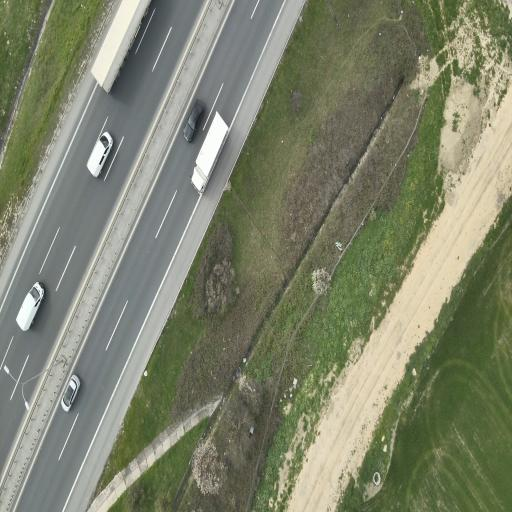car: (92, 0, 150, 91), (192, 111, 228, 192), (16, 283, 44, 331), (87, 132, 113, 177), (184, 99, 204, 140), (62, 374, 80, 410)
